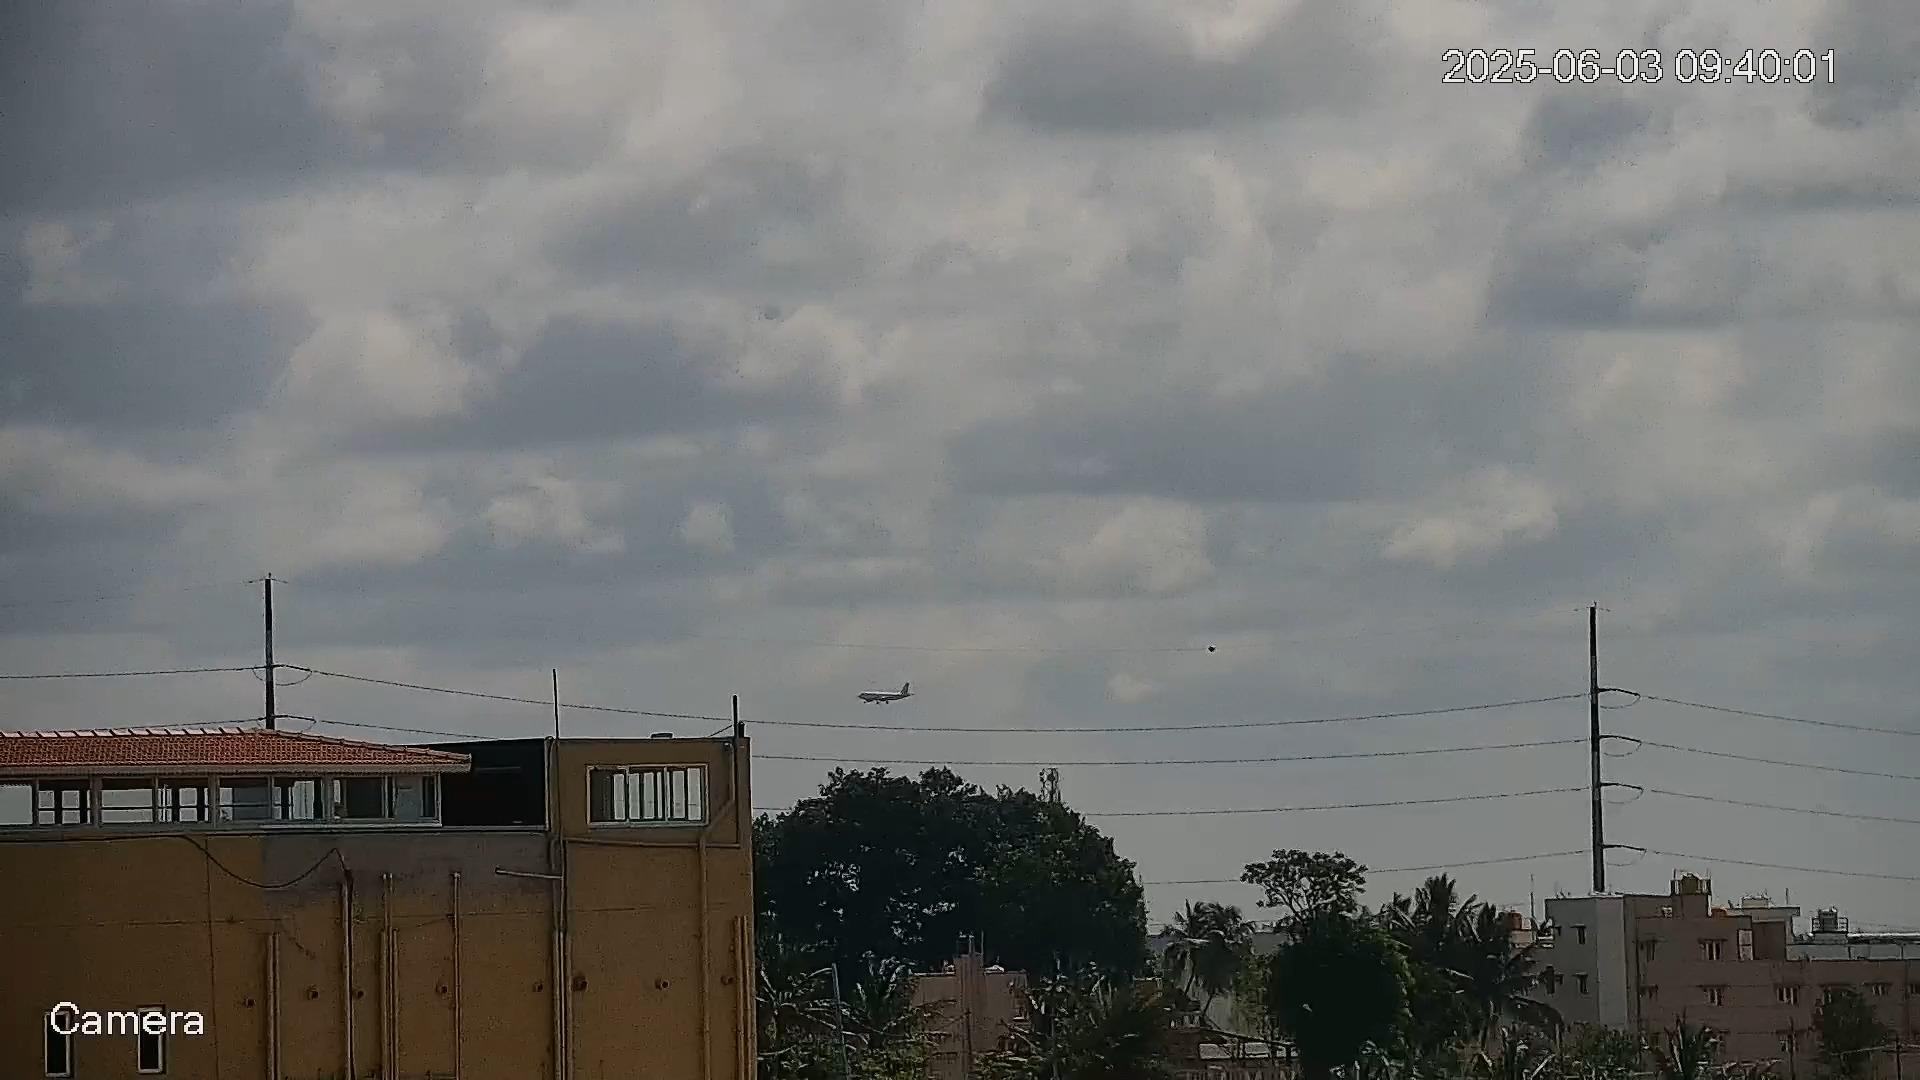Aircraft: (856, 682, 915, 704)
